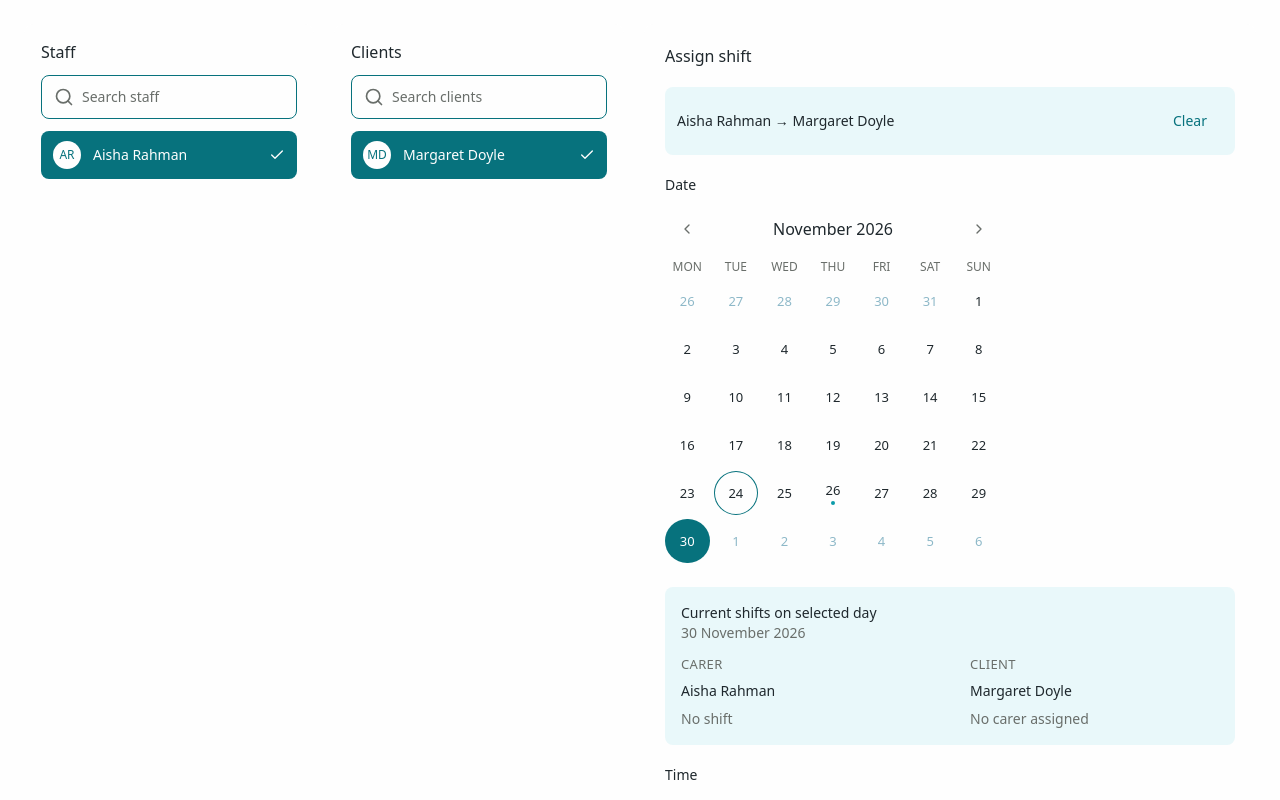
Scenario: [FAM-16][AC-07] the Admin Manage 'Shift date' picker keeps working › [FAM-16][AC-07] rings today, selects a day, shows the dot and pages months
Click the button with test id "date-picker-day-2026-11-25" at point(784, 493), box [762,471,807,515]
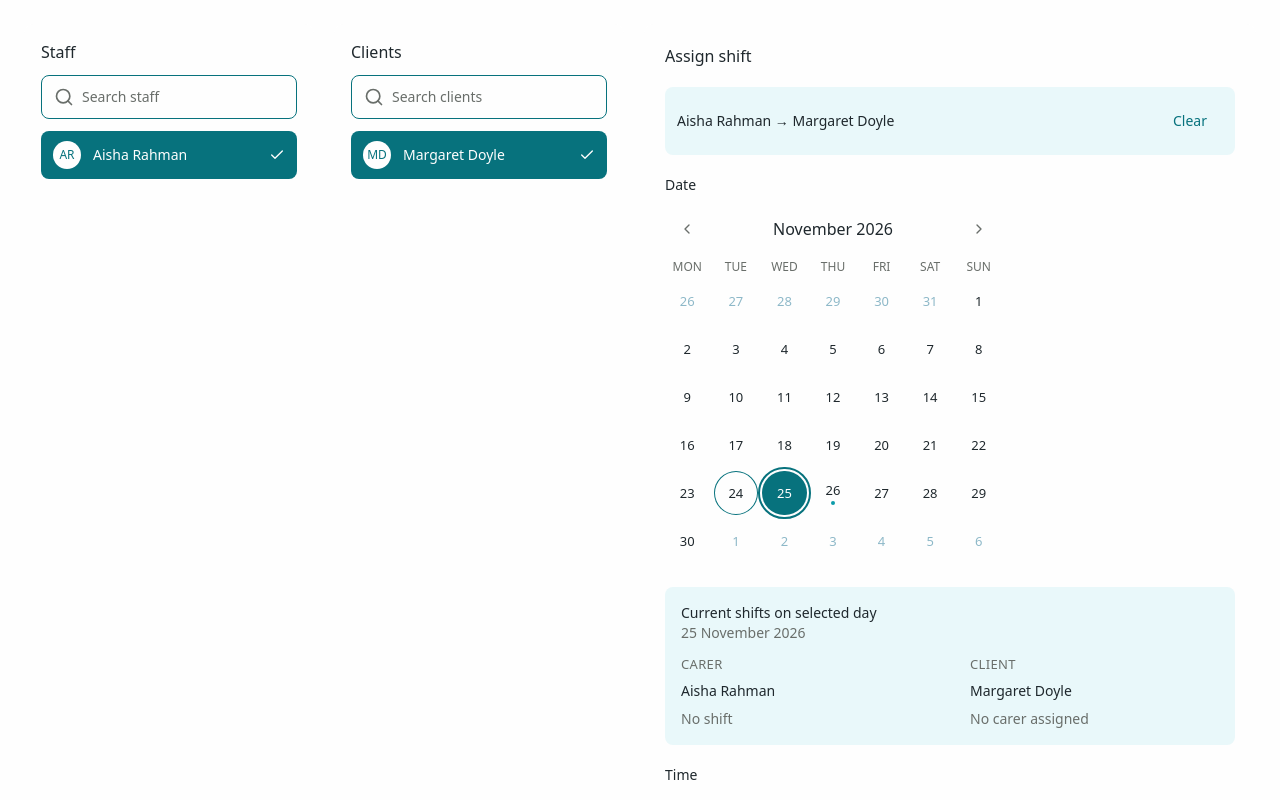
Check: the button with test id "date-picker-day-2026-11-25" is pressed, box [762,471,807,515]
Click the button named "Next month" at point(979, 229), box [957,207,1001,251]
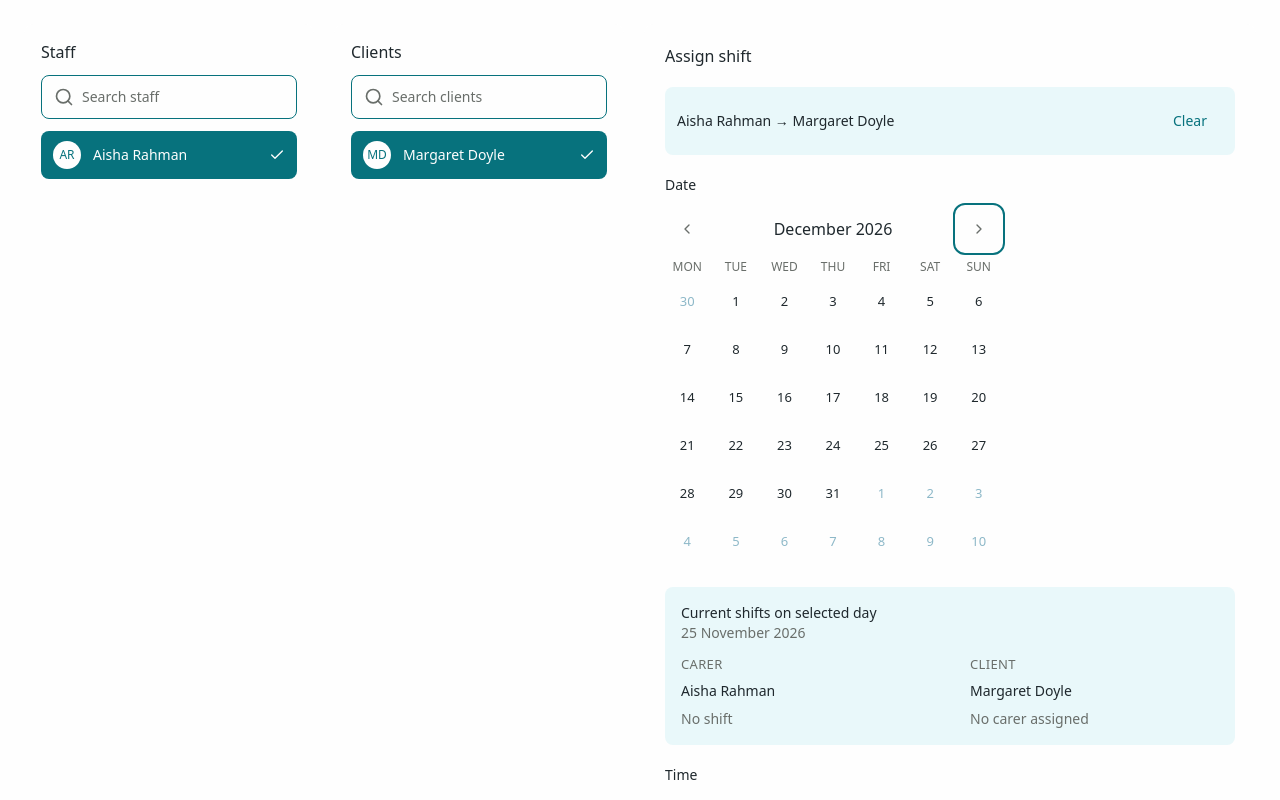
Check: the text "December 2026" is shown, box [774,218,892,240]
